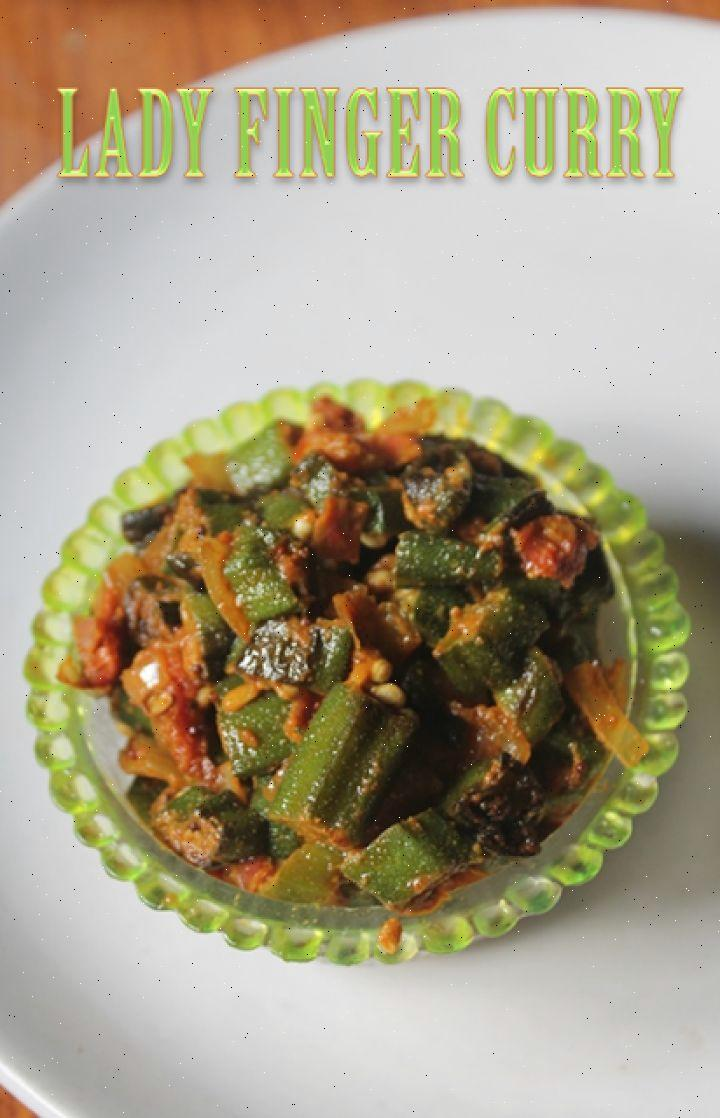bhindi: (117, 499, 593, 847)
